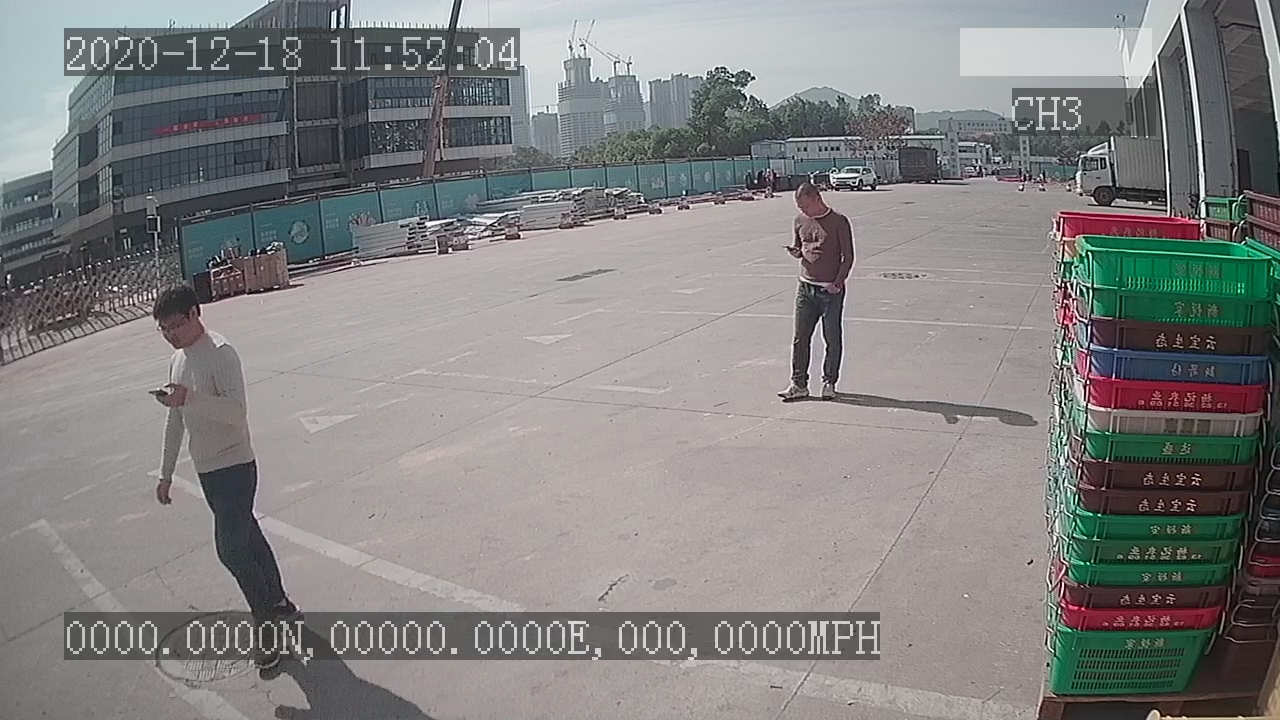person: (772, 172, 863, 413)
